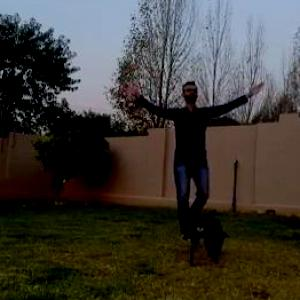takeoff: (123, 68, 261, 242)
